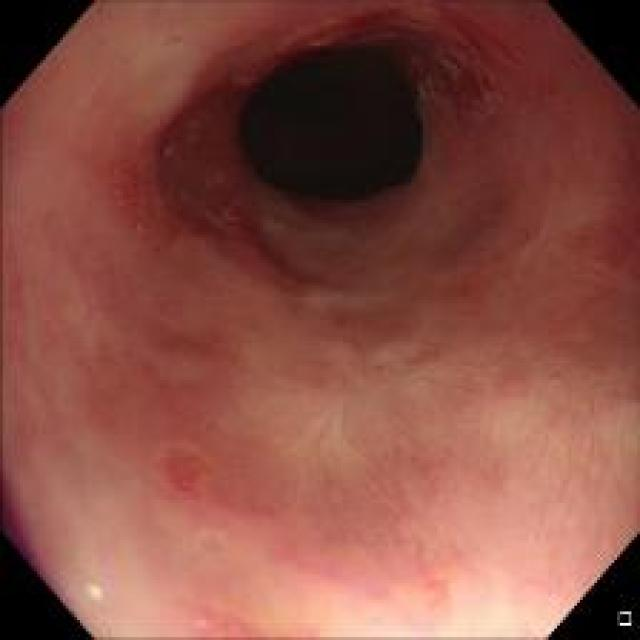contrast: (222, 31, 430, 220)
